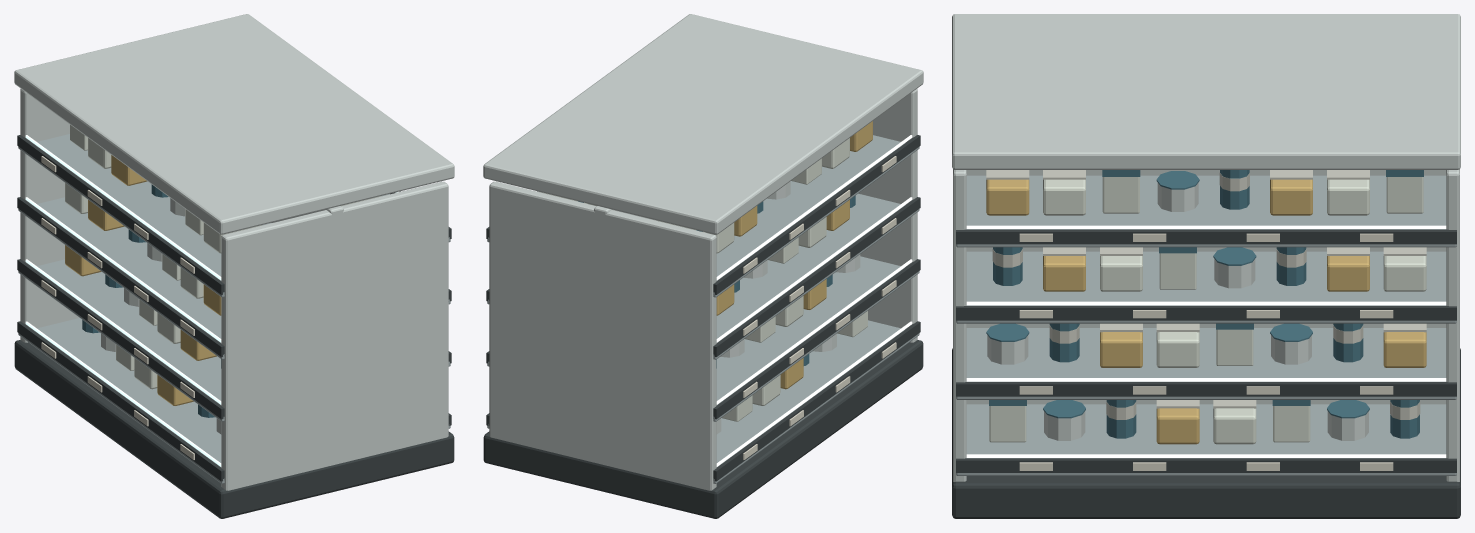
The model's file is chilled.glb.
3 renders of one model, left to right at view 1: azimuth 30°, elevation 25°; view 2: azimuth 150°, elevation 25°; view 3: azimuth 270°, elevation 25°, orthographic. The views are drawn at different scales.
Visible parts, largest first — view 1: chilled_fixture_Refrigerator enamel, chilled_fixture_Powder-coated graphite, chilled_fixture_Brushed stainless, chilled_detail_Dairy cartons, chilled_fixture_Cabinet LED, chilled_detail_cheese, chilled_micro_Ivory shelf label, chilled_detail_Refrigerator enamel, chilled_detail_Pack blue; view 2: chilled_fixture_Refrigerator enamel, chilled_fixture_Powder-coated graphite, chilled_fixture_Brushed stainless, chilled_detail_Dairy cartons, chilled_fixture_Cabinet LED, chilled_detail_cheese, chilled_micro_Ivory shelf label, chilled_detail_Refrigerator enamel; view 3: chilled_fixture_Refrigerator enamel, chilled_fixture_Brushed stainless, chilled_fixture_Powder-coated graphite, chilled_detail_Dairy cartons, chilled_detail_cheese, chilled_fixture_Cabinet LED, chilled_micro_paper, chilled_detail_Refrigerator enamel, chilled_detail_Pack blue, chilled_micro_Pack blue, chilled_micro_Ivory shelf label.
Part boxes in pixels (<box>): chilled_fixture_Refrigerator enamel: <box>14,14,454,490</box>; chilled_fixture_Powder-coated graphite: <box>14,135,454,518</box>; chilled_fixture_Brushed stainless: <box>18,134,450,483</box>; chilled_detail_Dairy cartons: <box>65,125,380,389</box>; chilled_fixture_Cabinet LED: <box>25,135,399,466</box>; chilled_detail_cheese: <box>65,155,221,405</box>; chilled_micro_Ivory shelf label: <box>41,156,194,459</box>; chilled_detail_Refrigerator enamel: <box>101,198,221,434</box>; chilled_detail_Pack blue: <box>82,184,221,417</box>; chilled_fixture_Refrigerator enamel: <box>483,14,923,490</box>; chilled_fixture_Powder-coated graphite: <box>483,135,923,518</box>; chilled_fixture_Brushed stainless: <box>487,135,919,483</box>; chilled_detail_Dairy cartons: <box>539,138,867,421</box>; chilled_fixture_Cabinet LED: <box>538,135,912,466</box>; chilled_detail_cheese: <box>716,121,872,389</box>; chilled_micro_Ivory shelf label: <box>743,156,896,459</box>; chilled_detail_Refrigerator enamel: <box>716,181,860,434</box>; chilled_fixture_Refrigerator enamel: <box>952,14,1460,481</box>; chilled_fixture_Brushed stainless: <box>956,175,1456,475</box>; chilled_fixture_Powder-coated graphite: <box>952,229,1460,518</box>; chilled_detail_Dairy cartons: <box>989,177,1426,444</box>; chilled_detail_cheese: <box>986,179,1426,444</box>; chilled_fixture_Cabinet LED: <box>966,225,1446,457</box>; chilled_micro_paper: <box>986,170,1426,419</box>; chilled_detail_Refrigerator enamel: <box>987,182,1368,440</box>; chilled_detail_Pack blue: <box>993,170,1419,438</box>; chilled_micro_Pack blue: <box>986,170,1423,418</box>; chilled_micro_Ivory shelf label: <box>1019,233,1393,470</box>.
Bounding box in the file's own units: 1.7 × 2.07 × 2.6.
